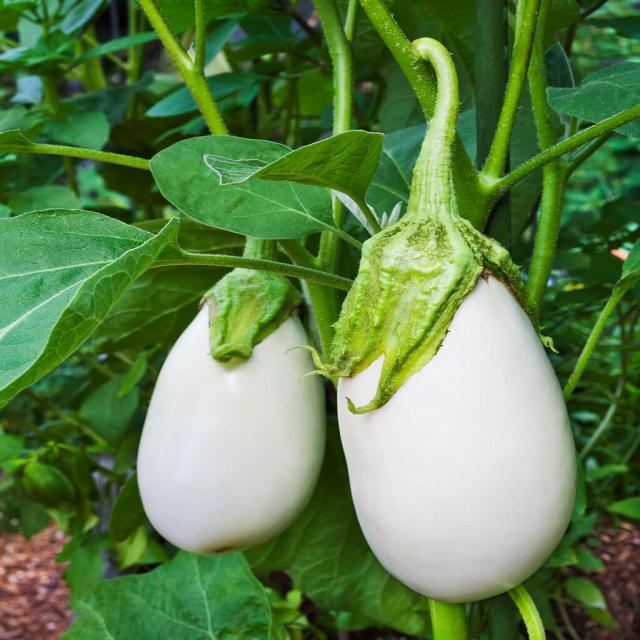eggplant: (330, 240, 577, 604), (130, 279, 326, 558)
